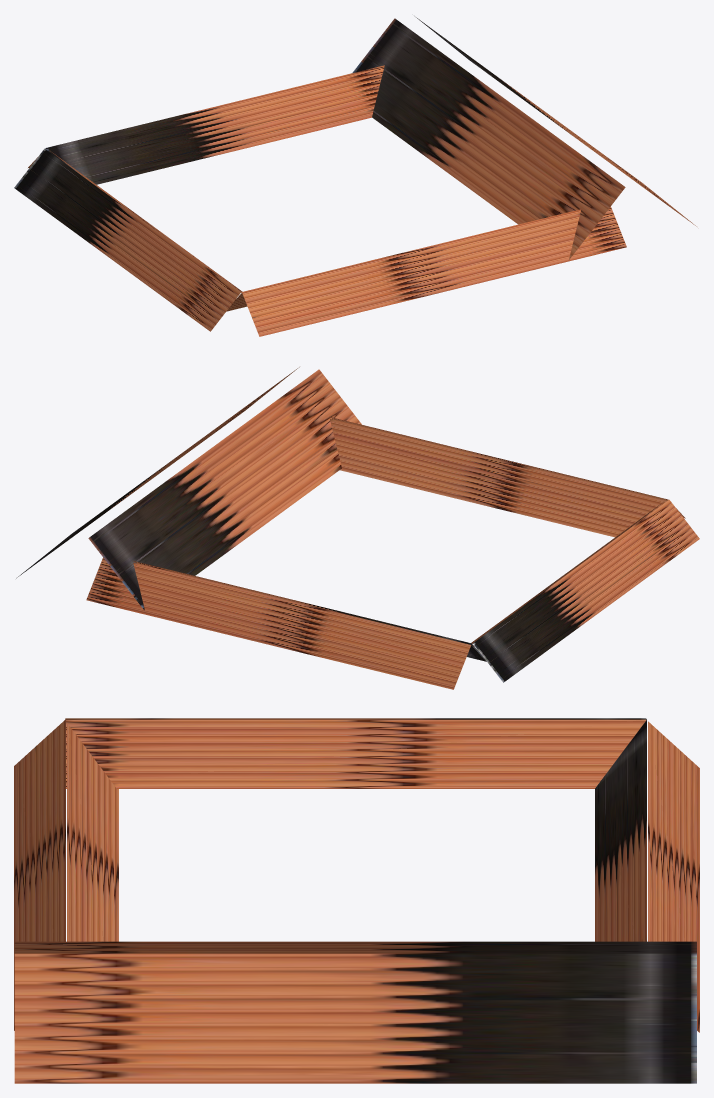
Rendered from castleroof.obj.
The picture shows the model from 3 angles, top to bottom: view 1: azimuth 30°, elevation 25°; view 2: azimuth 150°, elevation 25°; view 3: azimuth 270°, elevation 25°; orthographic projection. The views are drawn at different scales.
Visible parts, largest first — view 1: outerroofB2_Plane.036, outerroofS12_Plane.038, outerroofS22_Plane.035, outerroofS31_Plane.039, outerroofB1_Plane.033; view 2: outerroofB2_Plane.036, outerroofS21_Plane.034, outerroofS11_Plane.037, outerroofS31_Plane.039, outerroofB1_Plane.033, outerroofS22_Plane.035, outerroofS12_Plane.038; view 3: outerroofB1_Plane.033, outerroofS32_Plane.040, outerroofS21_Plane.034, outerroofS12_Plane.038, outerroofS22_Plane.035, outerroofS11_Plane.037, outerroofB2_Plane.036, outerroofS31_Plane.039.
Part boxes in pixels (x1=…): outerroofB2_Plane.036: x1=352, y1=18, x2=625, y2=260; outerroofS12_Plane.038: x1=242, y1=206, x2=626, y2=336; outerroofS22_Plane.035: x1=45, y1=65, x2=384, y2=184; outerroofS31_Plane.039: x1=14, y1=148, x2=240, y2=331; outerroofB1_Plane.033: x1=414, y1=16, x2=696, y2=226; outerroofB2_Plane.036: x1=88, y1=369, x2=361, y2=611; outerroofS21_Plane.034: x1=86, y1=557, x2=471, y2=689; outerroofS11_Plane.037: x1=330, y1=418, x2=666, y2=537; outerroofS31_Plane.039: x1=473, y1=499, x2=699, y2=682; outerroofB1_Plane.033: x1=16, y1=367, x2=299, y2=578; outerroofS22_Plane.035: x1=133, y1=561, x2=486, y2=661; outerroofS12_Plane.038: x1=330, y1=417, x2=685, y2=518; outerroofB1_Plane.033: x1=14, y1=953, x2=696, y2=1083; outerroofS32_Plane.040: x1=65, y1=719, x2=646, y2=788; outerroofS21_Plane.034: x1=648, y1=721, x2=699, y2=1032; outerroofS12_Plane.038: x1=14, y1=719, x2=65, y2=1030; outerroofS22_Plane.035: x1=595, y1=719, x2=646, y2=941; outerroofS11_Plane.037: x1=67, y1=723, x2=118, y2=941; outerroofB2_Plane.036: x1=14, y1=941, x2=696, y2=953; outerroofS31_Plane.039: x1=65, y1=718, x2=646, y2=719.
Size of the model in its own units: 175 by 21.76 by 149.
